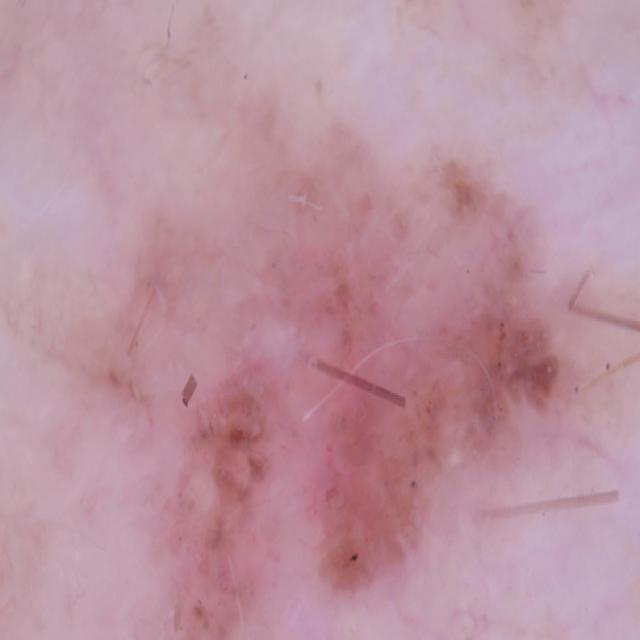Carcinoma: (114, 100, 572, 640)
